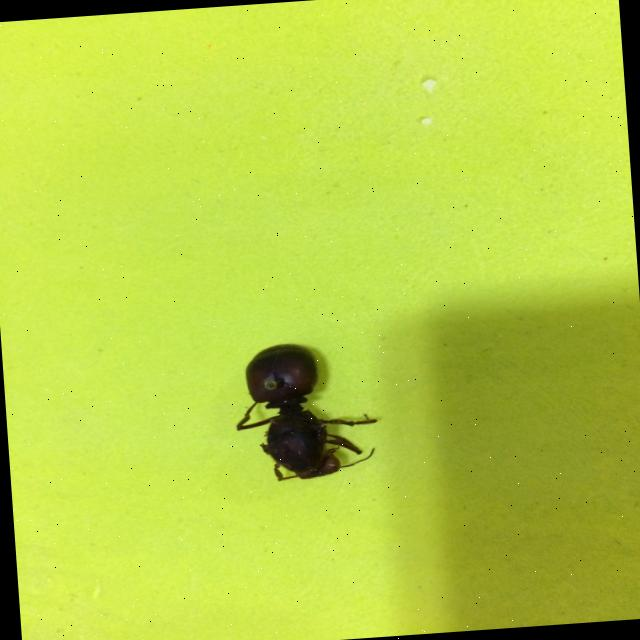Dead-Female-Dealate: (229, 338, 381, 486)
